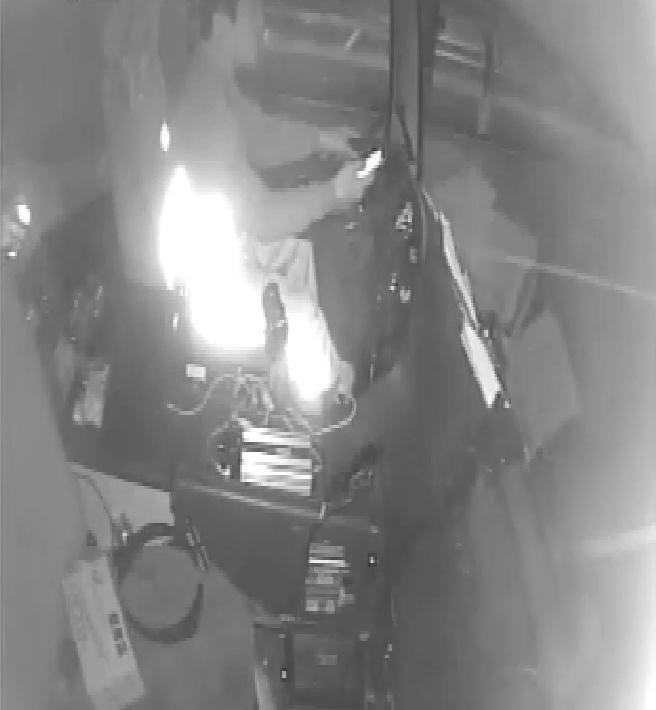cellphone: (345, 145, 386, 183)
